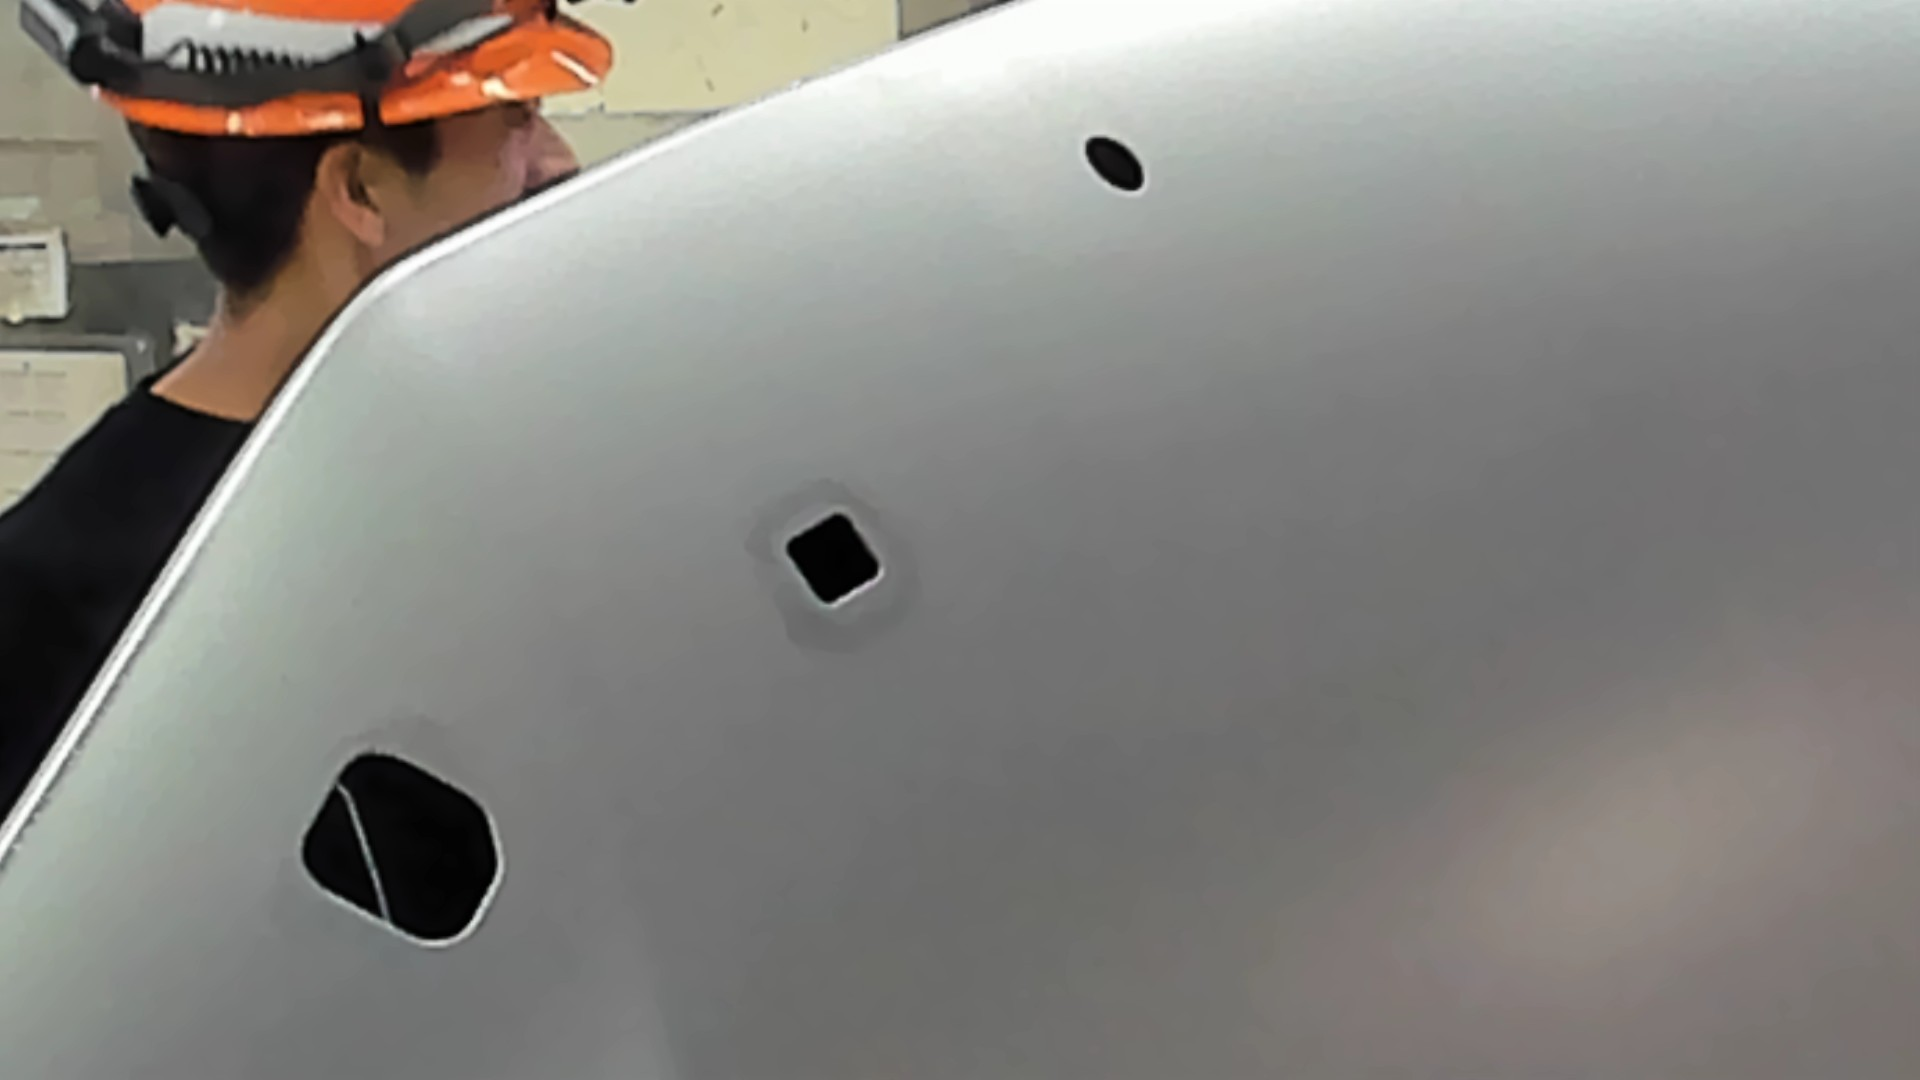chico: (1077, 128, 1150, 195)
grande: (289, 746, 506, 953)
mediano: (777, 505, 887, 615)
